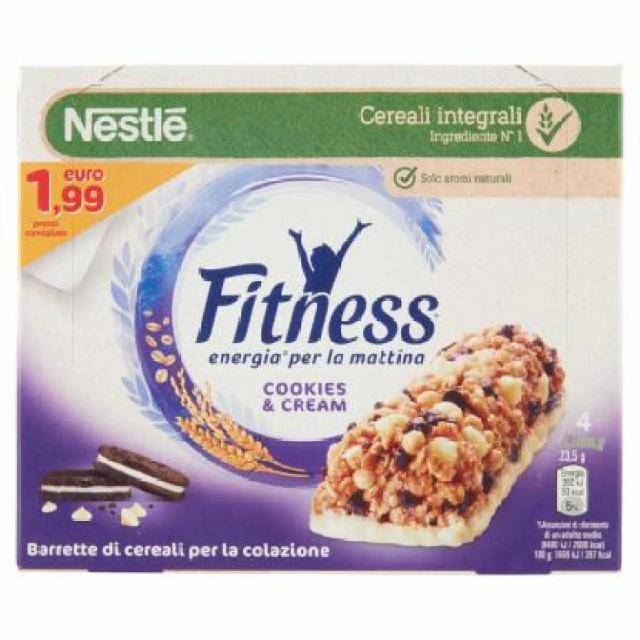Cereal bar: (15, 57, 633, 580)
